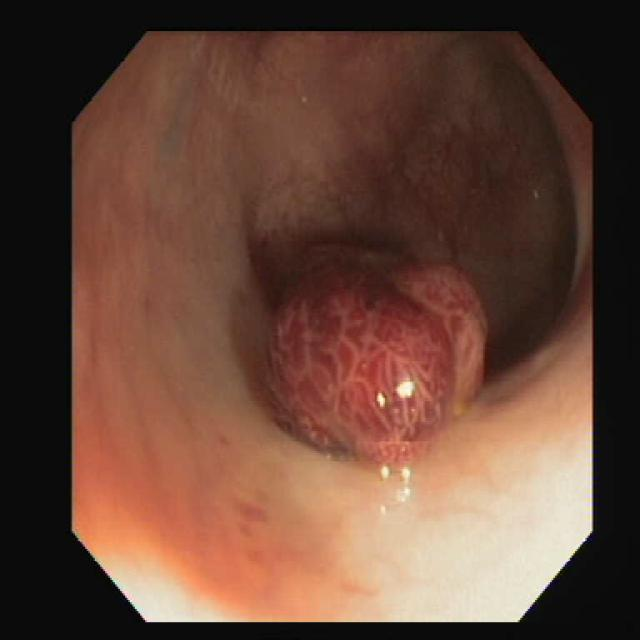tumor: (257, 229, 482, 480)
